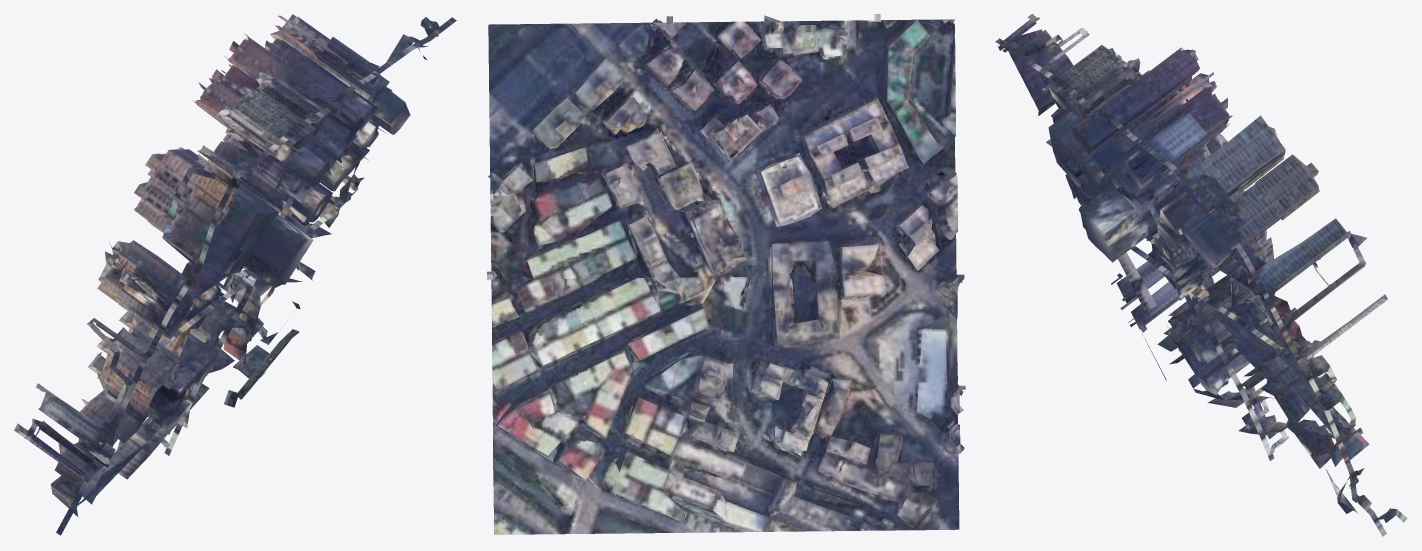
3 renders of one model, left to right at view 1: azimuth 30°, elevation 25°; view 2: azimuth 150°, elevation 25°; view 3: azimuth 270°, elevation 25°, orthographic. The views are drawn at different scales.
Bounding box in the file's own units: 324 × 311 × 269.
1 material, 1 textured.
